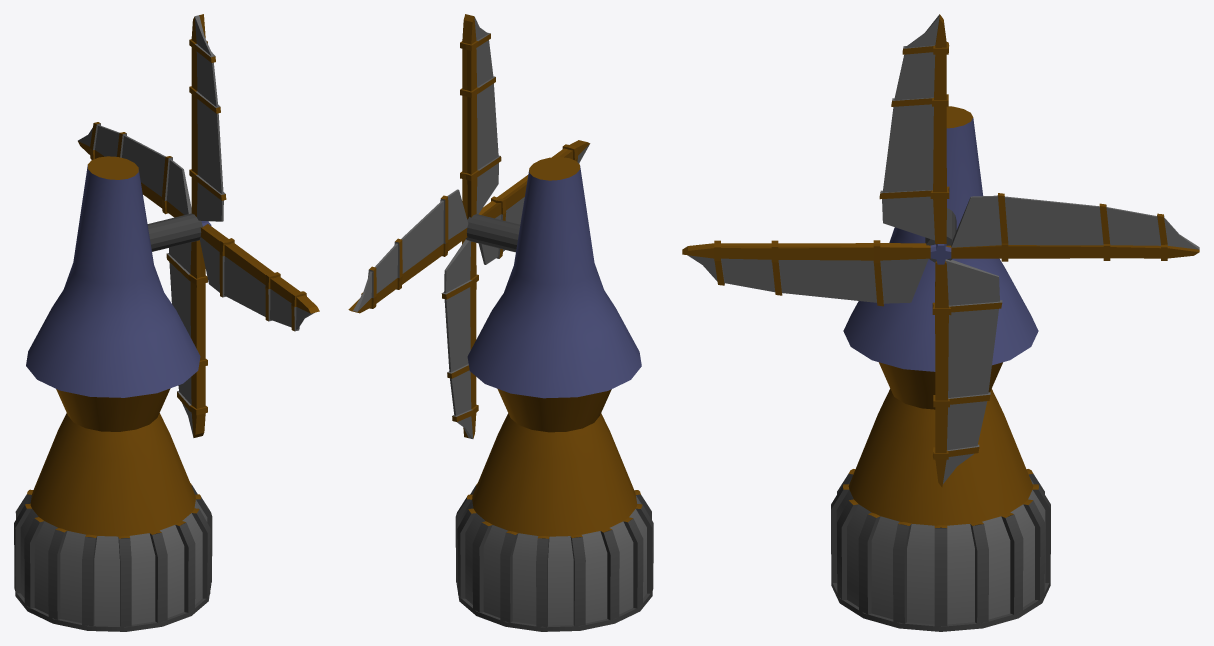
Rendered from Windmill.fbx.
3 views of the same model, side by side, from view 1: azimuth 30°, elevation 25°; view 2: azimuth 150°, elevation 25°; view 3: azimuth 270°, elevation 25° (orthographic). The views are drawn at different scales.
Visible parts, largest first — view 1: Cylinder.001, Cube.001, Cylinder; view 2: Cylinder.001, Cube.001, Cylinder; view 3: Cylinder.001, Cube.001.
Boxes of the visible parts, left/top/right/bottom form: Cylinder.001: left=14, top=156, right=212, bottom=631; Cube.001: left=78, top=14, right=319, bottom=437; Cylinder: left=147, top=213, right=202, bottom=251; Cylinder.001: left=455, top=157, right=653, bottom=631; Cube.001: left=348, top=14, right=590, bottom=438; Cylinder: left=466, top=214, right=520, bottom=252; Cylinder.001: left=831, top=106, right=1050, bottom=631; Cube.001: left=682, top=14, right=1199, bottom=487.
Size of the model in its own units: 39.9 by 118 by 89.85.
